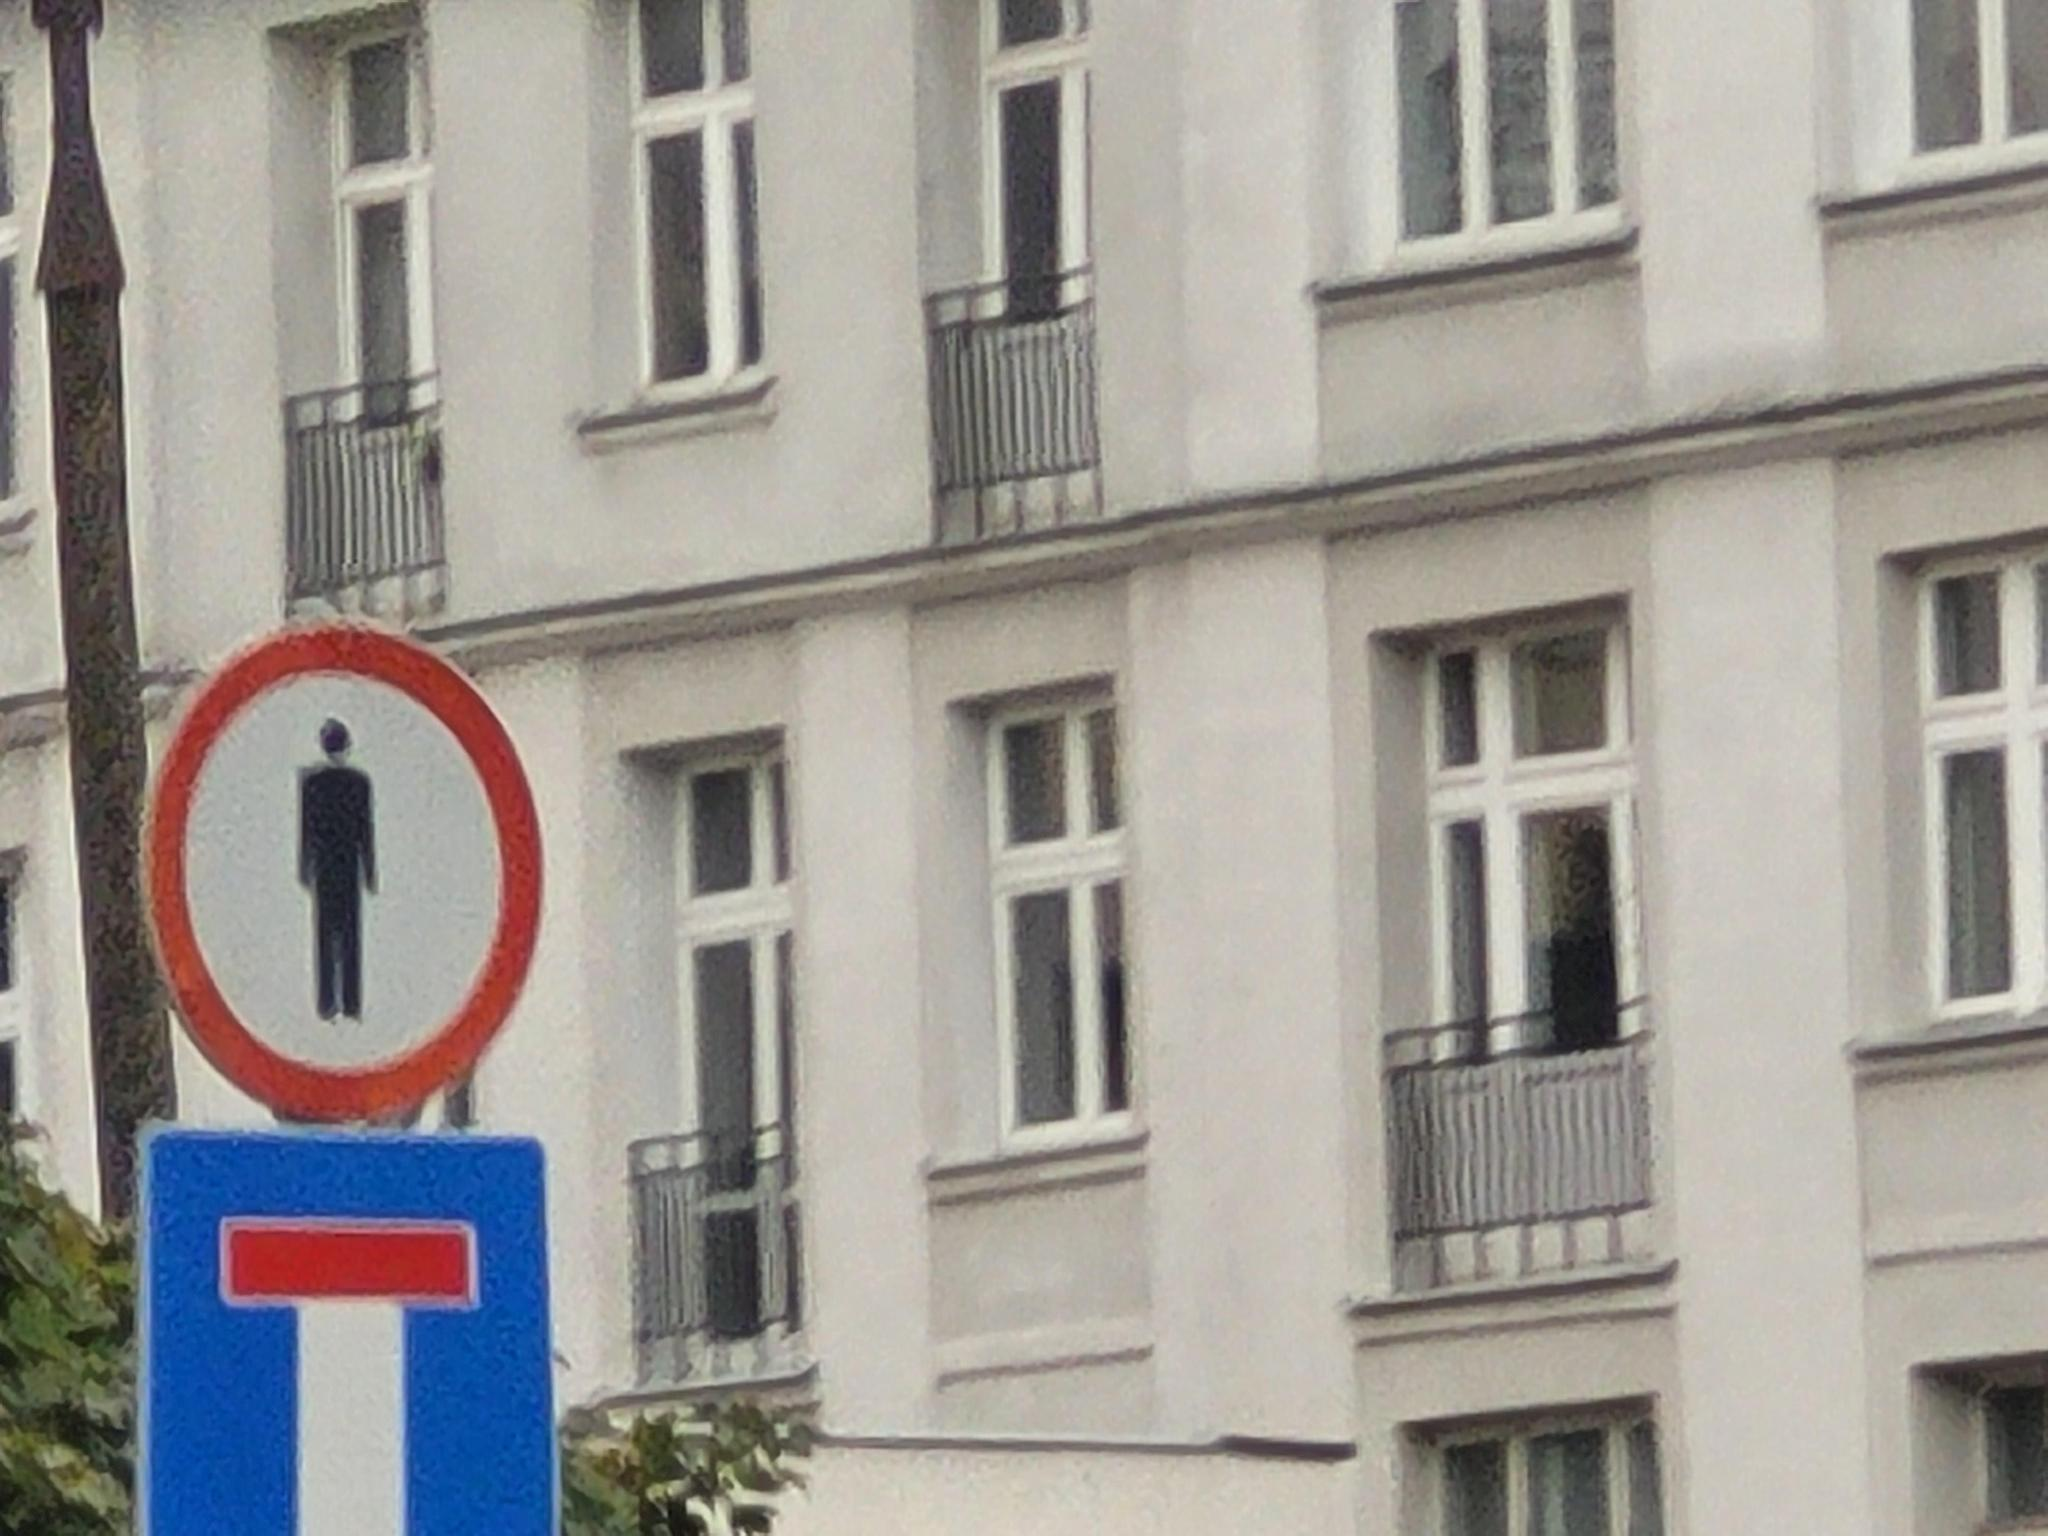information: (138, 1132, 556, 1536)
prohibitory: (142, 612, 546, 1126)
